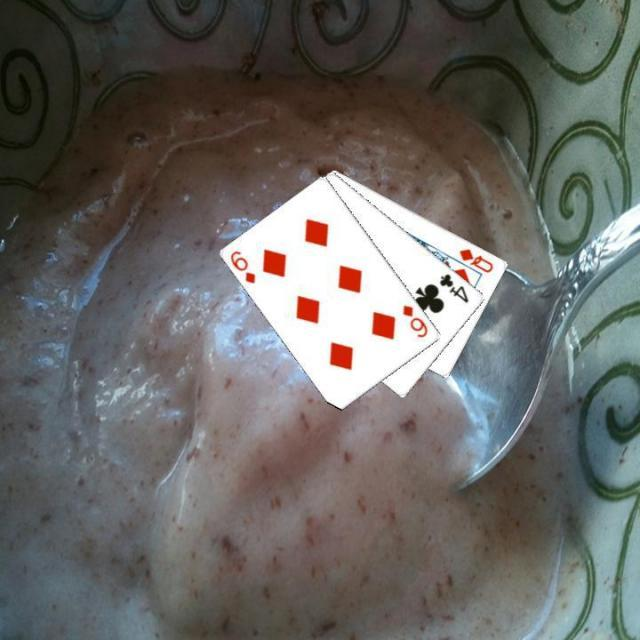4C: (436, 269, 472, 305)
6D: (226, 247, 258, 285), (399, 302, 430, 339)
QD: (455, 244, 495, 274)
